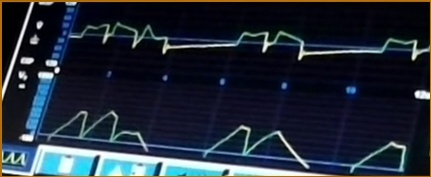Double_Triggering Flow: (71, 16, 327, 61)
Double_Triggering Volume: (44, 107, 316, 167)
